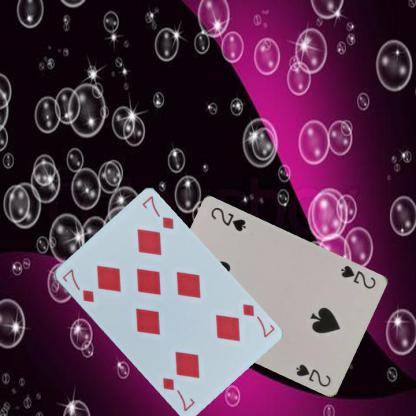2s: (339, 262, 377, 290)
7d: (239, 301, 276, 339), (59, 266, 95, 304)
